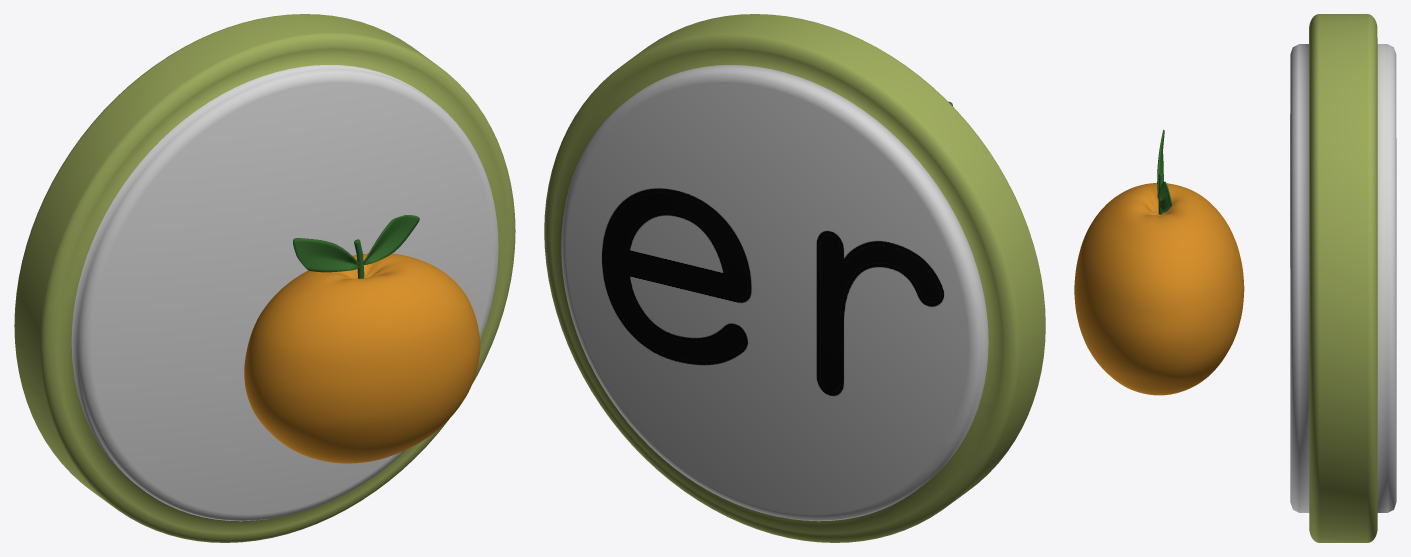
Rendered from orange.gltf.
3 views of the same model, side by side, from view 1: azimuth 30°, elevation 25°; view 2: azimuth 150°, elevation 25°; view 3: azimuth 270°, elevation 25° (orthographic). The views are drawn at different scales.
Parts seen in each view (by area): view 1: coin, Sphere, Cylinder.002; view 2: coin; view 3: coin, Sphere, Cylinder.002.
Boxes of the visible parts, x1=… form: coin: x1=14, y1=14, x2=515, y2=542; Sphere: x1=244, y1=253, x2=480, y2=463; Cylinder.002: x1=293, y1=215, x2=419, y2=278; coin: x1=544, y1=14, x2=1045, y2=542; coin: x1=1290, y1=14, x2=1396, y2=542; Sphere: x1=1074, y1=183, x2=1244, y2=395; Cylinder.002: x1=1157, y1=130, x2=1171, y2=214.
Size of the model in its own units: 2.56 by 2.56 by 1.56.
5 materials, 1 textured.
